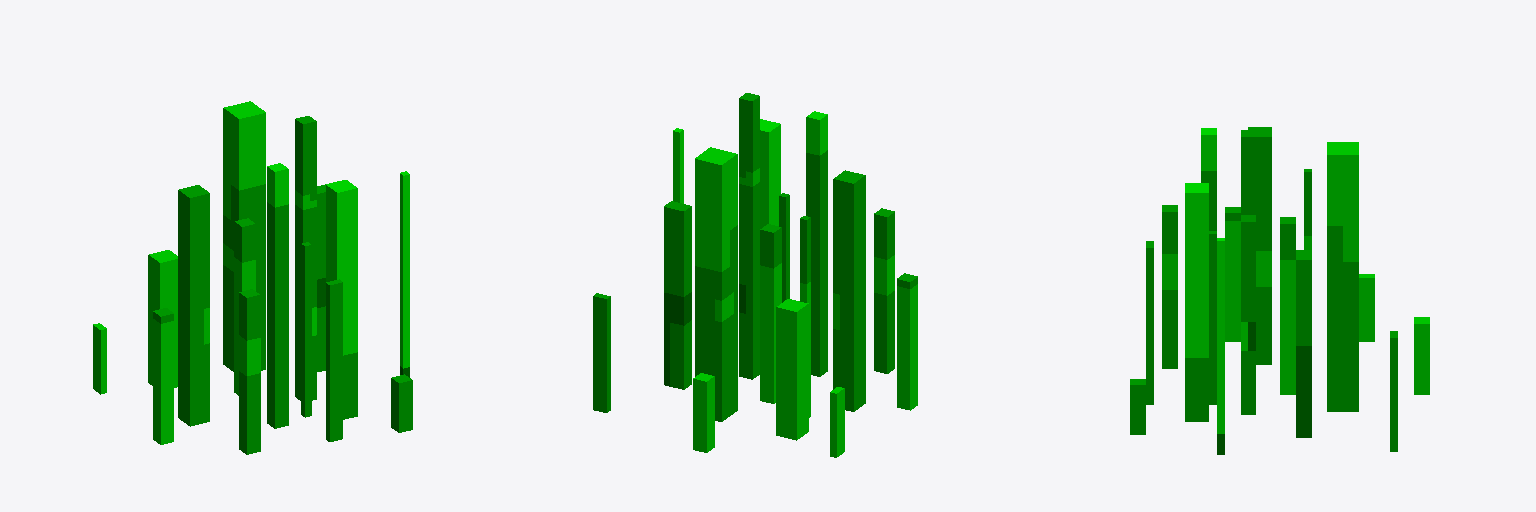
The picture shows the model from 3 angles: view 1: azimuth 30°, elevation 25°; view 2: azimuth 150°, elevation 25°; view 3: azimuth 270°, elevation 25°; orthographic projection.
Size of the model in its own units: 36 by 39 by 38.
Materials: 1 (1 with a texture image).